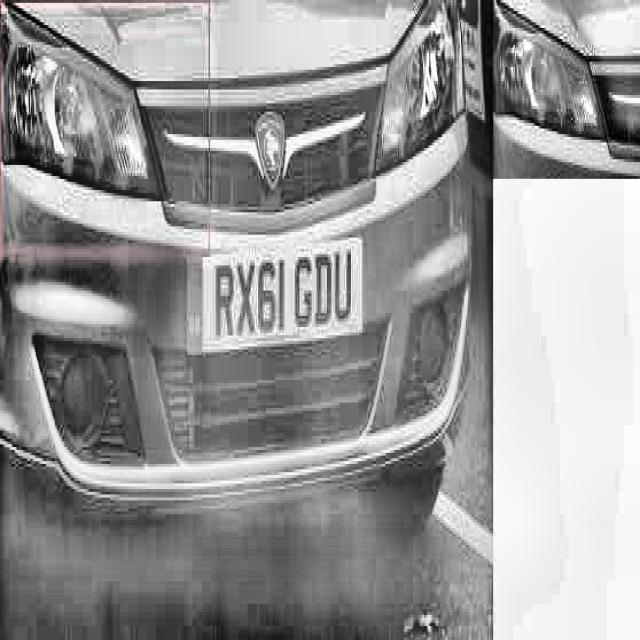license_plate: (186, 246, 359, 344)
